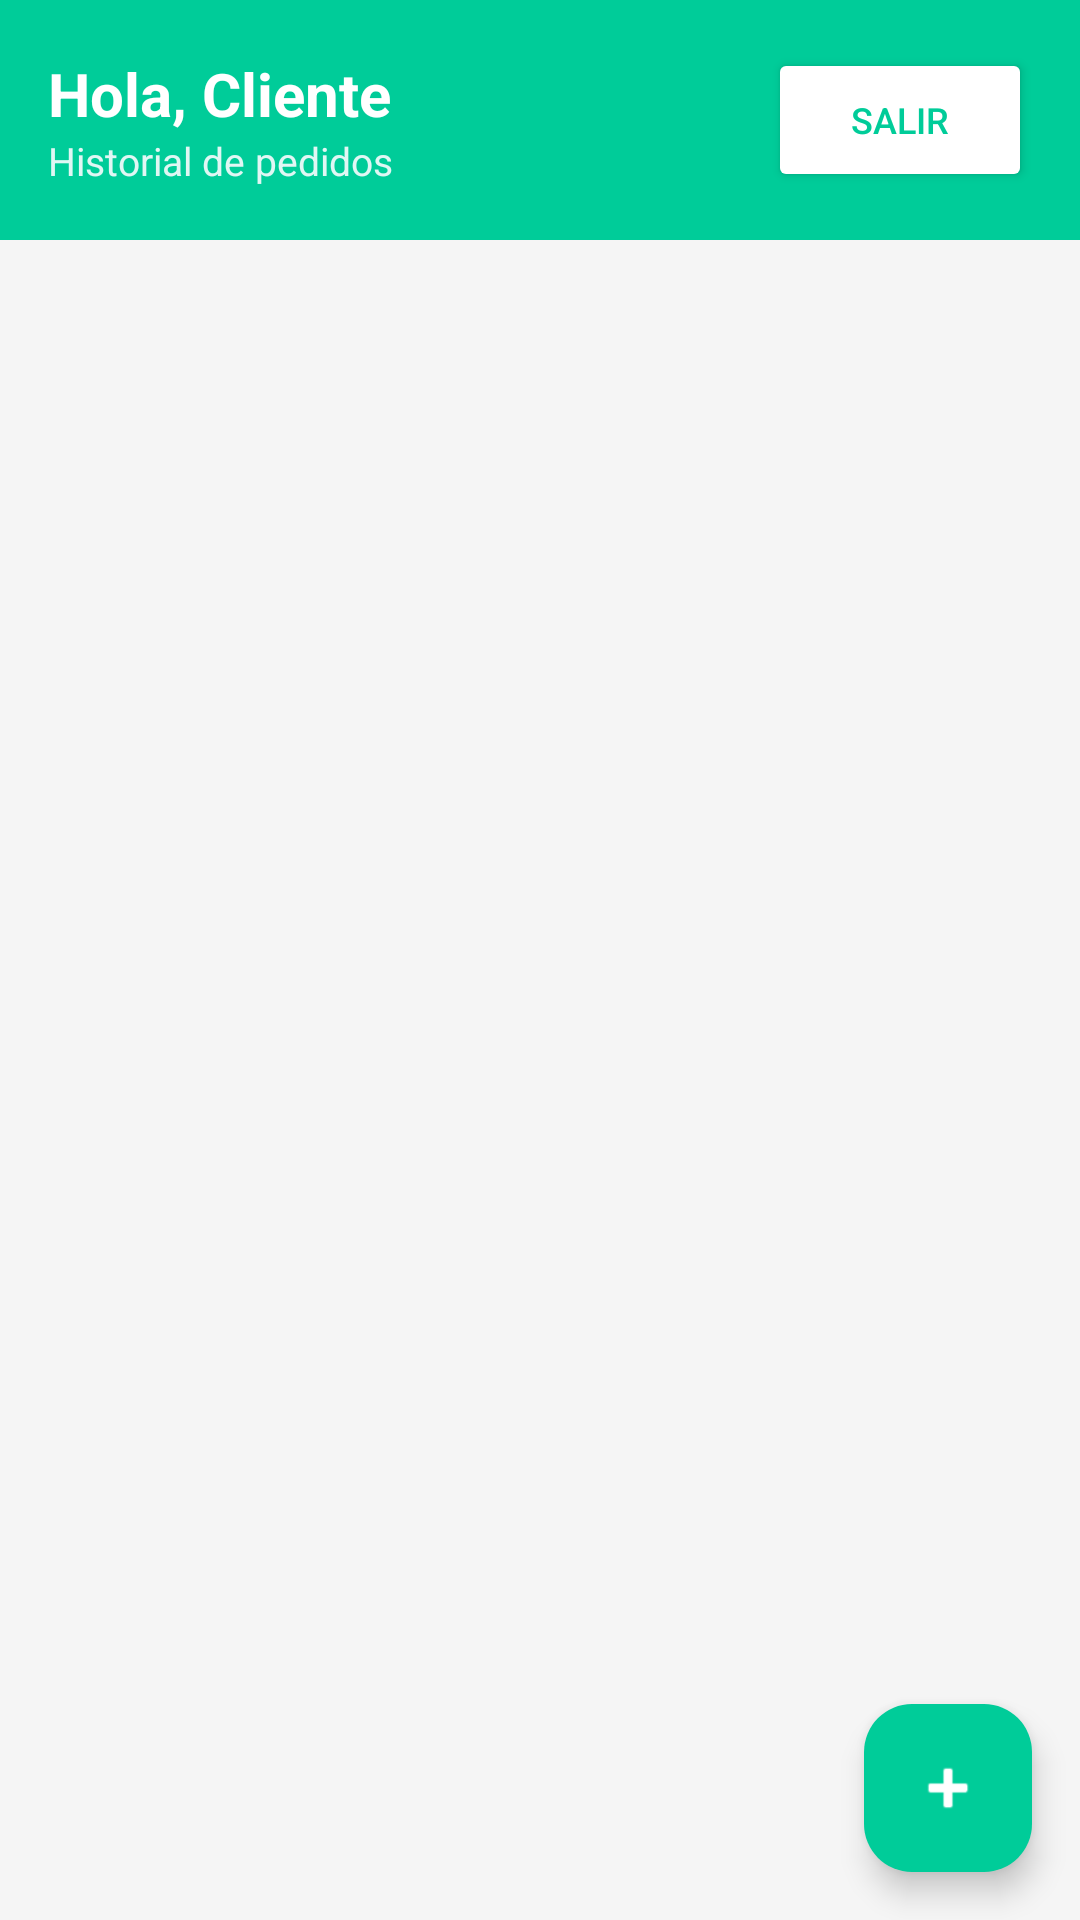

Screen size 1080px x 1920px. Icon name, then its center in pixels as point (x, y):
Nuevo pedido: point (948, 1788)
